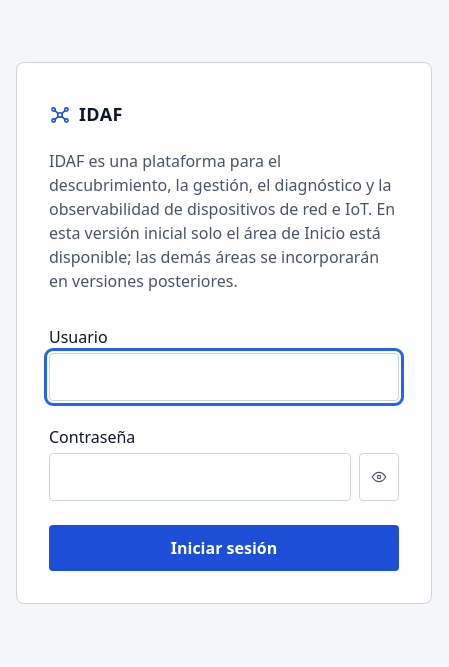
Test: LoginView (contract auth-and-session.md §F) › verificación no disponible → mensaje DISTINTO del de credenciales inválidas (F4; FR-056)
This screenshot has width=449, height=667.
Type "alice" into the field labelled "Usuario".
click(224, 377); type("alice")  # box [49,353,399,401]
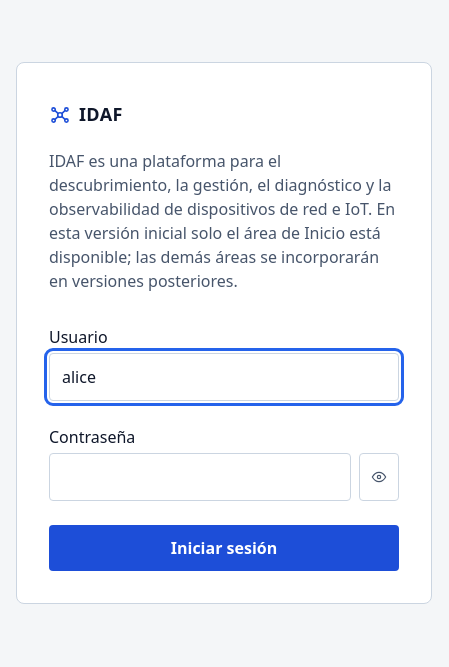
Type "whatever" into the password field labelled "Contraseña".
click(200, 477); type("whatever")  # box [49,453,351,501]
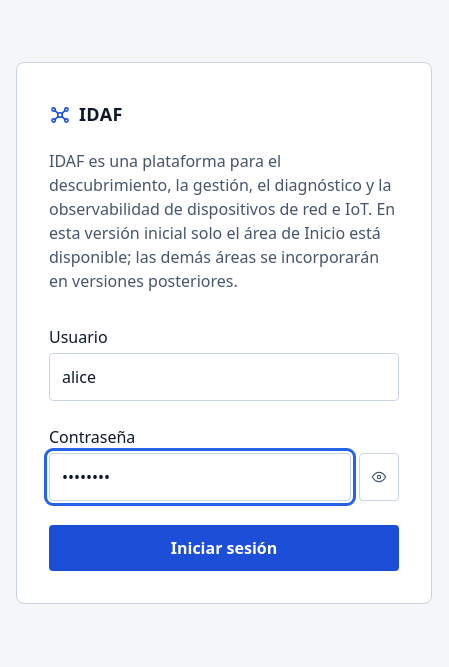
Click the button "Iniciar sesión".
click(224, 548)  # box [49,525,399,571]
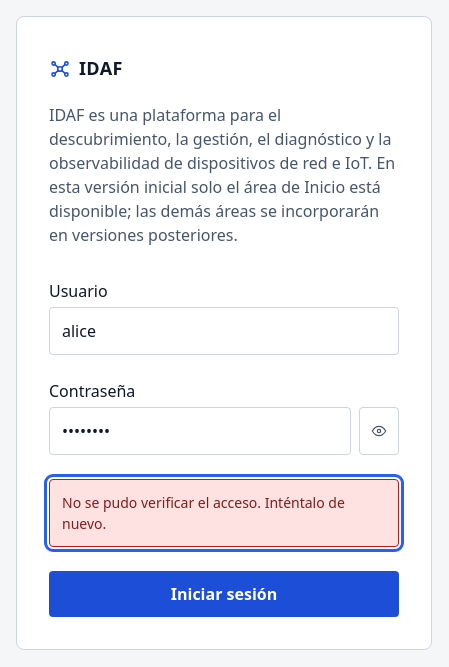
Result: the message reads "No se pudo verificar el acceso. Inténtalo de nuevo." at [62,493,345,533]
